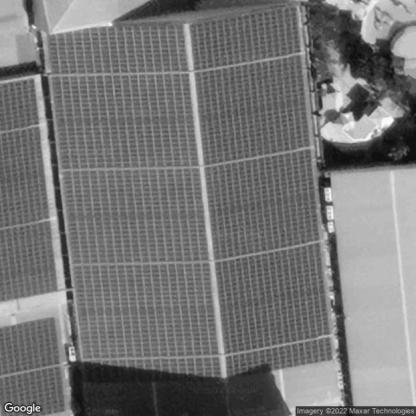solar-pv-panel: (43, 7, 334, 379), (0, 77, 59, 301), (0, 318, 63, 401)
